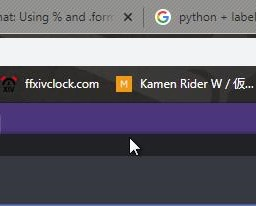cursor: (126, 135, 143, 159)
